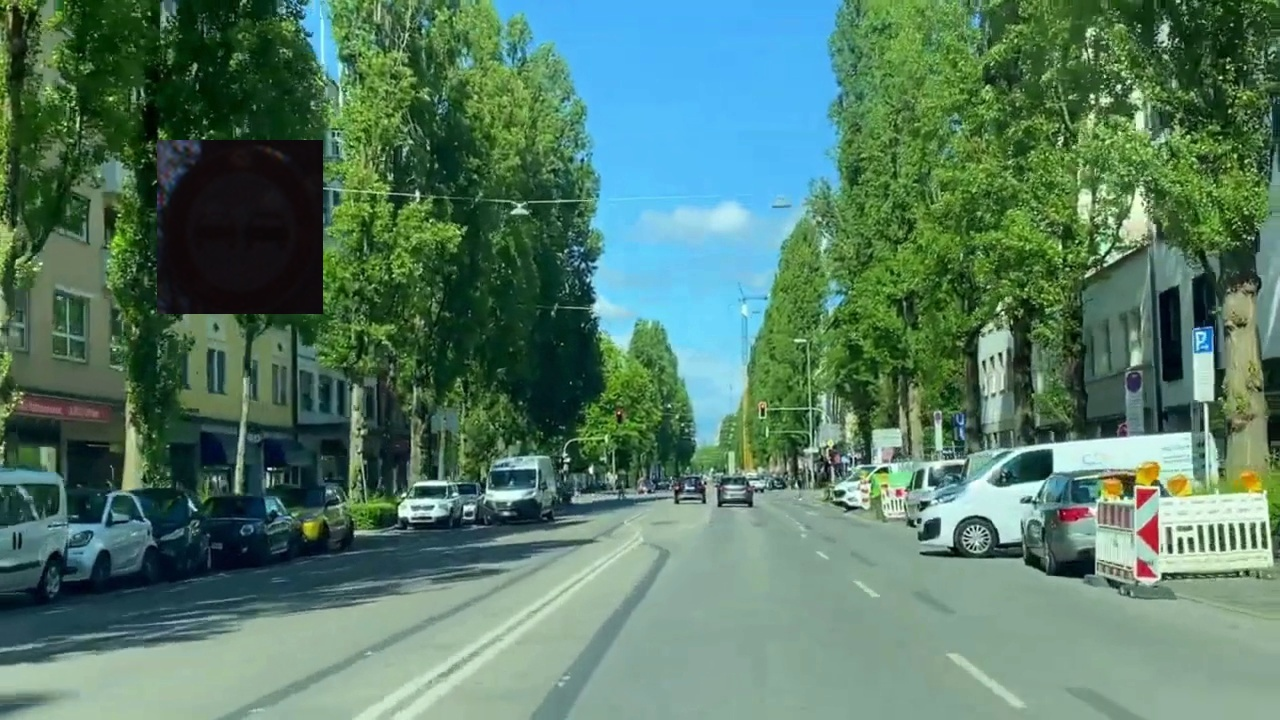No passing: (157, 140, 323, 314)
